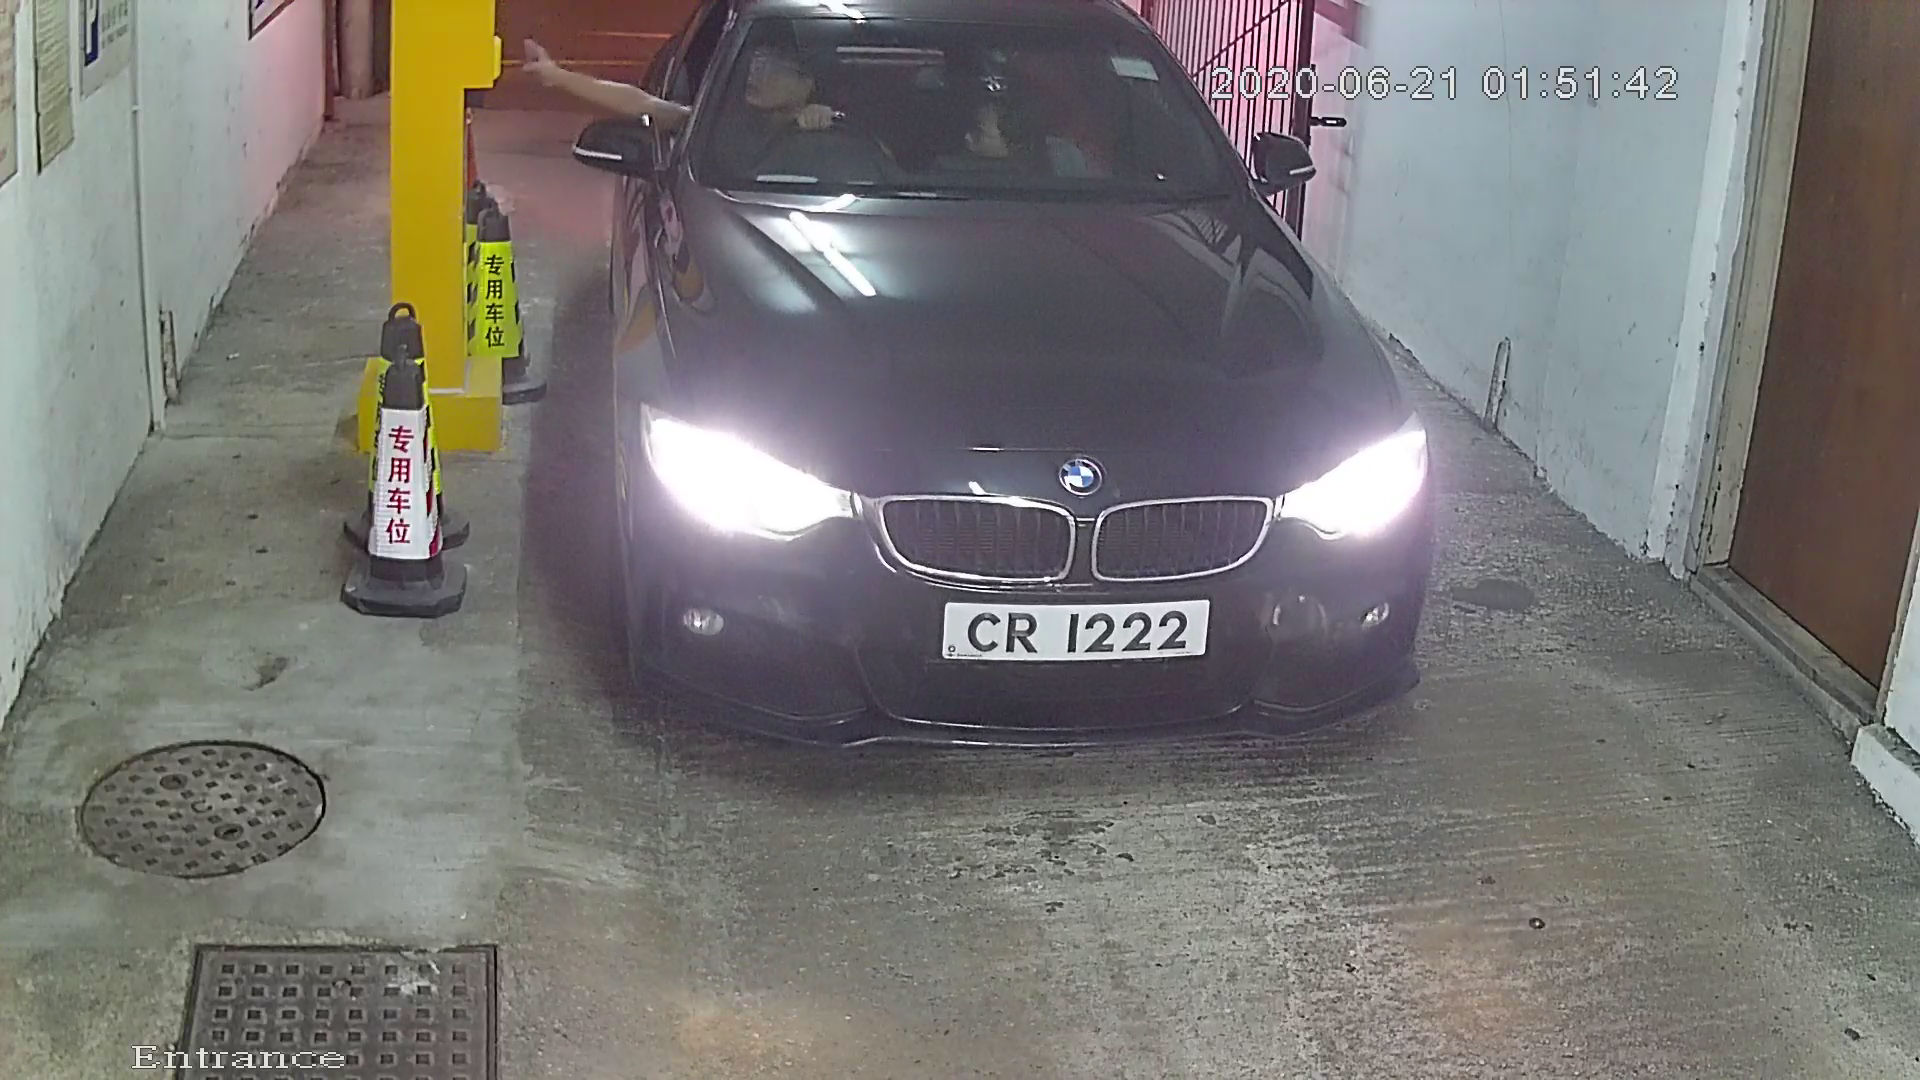privatecar: (529, 1, 1527, 880)
